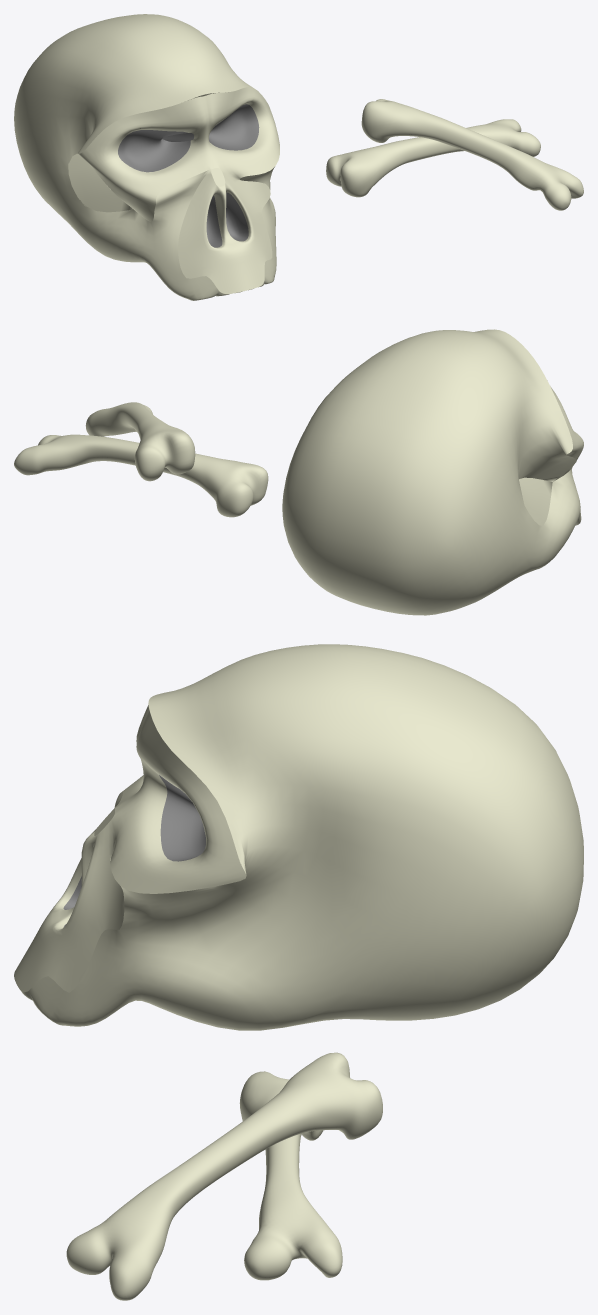
The model's file is skull and bones.fbx.
The picture shows the model from 3 angles, top to bottom: view 1: azimuth 30°, elevation 25°; view 2: azimuth 150°, elevation 25°; view 3: azimuth 270°, elevation 25°; orthographic projection. The views are drawn at different scales.
Parts seen in each view (by area): view 1: Skull, Sphere.001, Sphere; view 2: Skull, Sphere, Sphere.001; view 3: Skull, Sphere.001, Sphere.
Boxes of the visible parts, x1=… form: Skull: x1=14, y1=14, x2=279, y2=300; Sphere.001: x1=361, y1=99, x2=583, y2=210; Sphere: x1=326, y1=119, x2=540, y2=197; Skull: x1=282, y1=329, x2=583, y2=615; Sphere: x1=14, y1=434, x2=268, y2=517; Sphere.001: x1=85, y1=402, x2=195, y2=481; Skull: x1=14, y1=644, x2=583, y2=1030; Sphere.001: x1=66, y1=1052, x2=382, y2=1300; Sphere: x1=239, y1=1071, x2=342, y2=1280.
Bounding box in the file's own units: 278 × 122 × 180.
